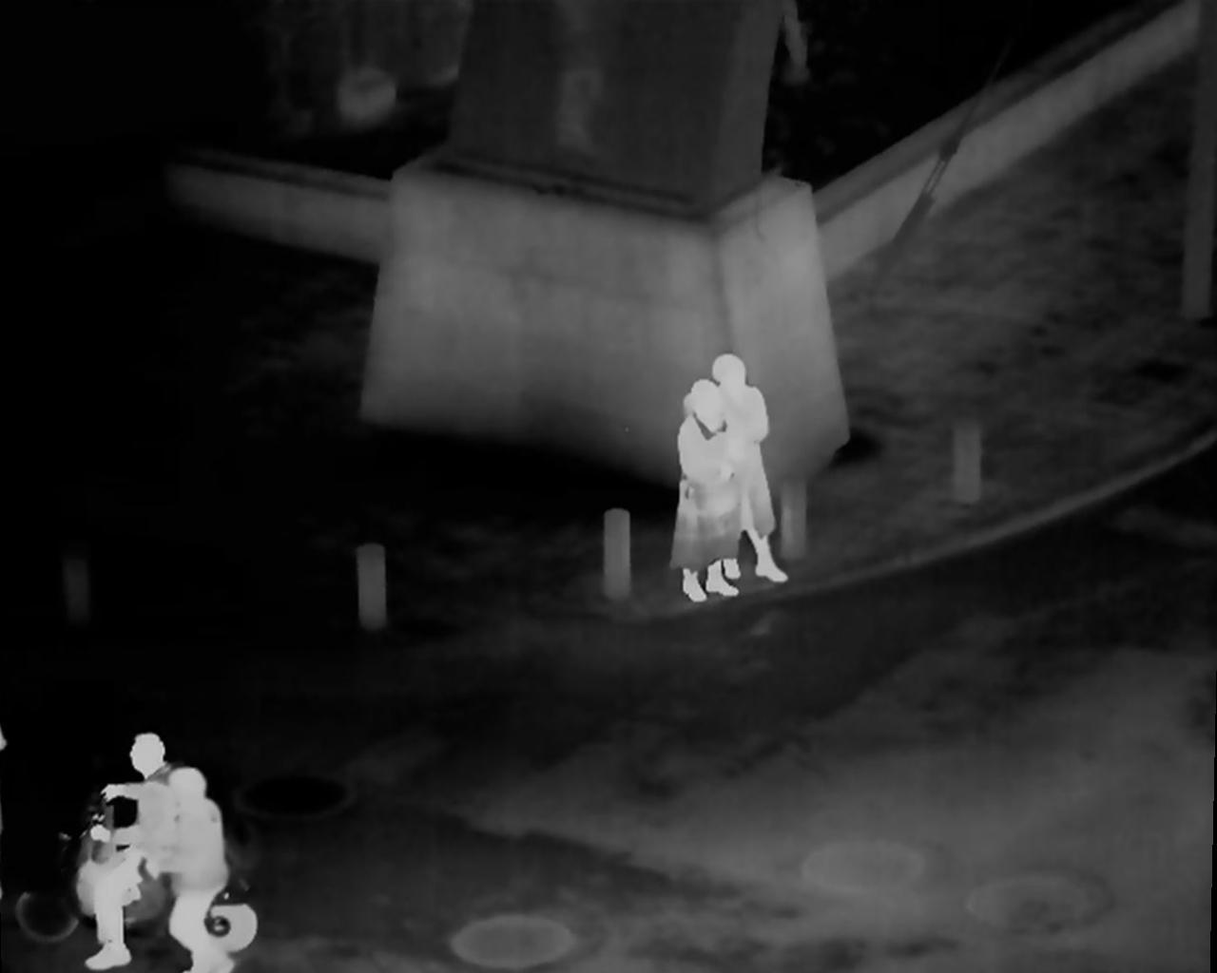person: (74, 735, 177, 972), (709, 354, 789, 585), (668, 377, 744, 603), (155, 771, 236, 973)
